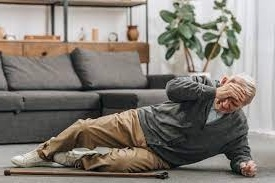fall: (16, 69, 262, 181)
